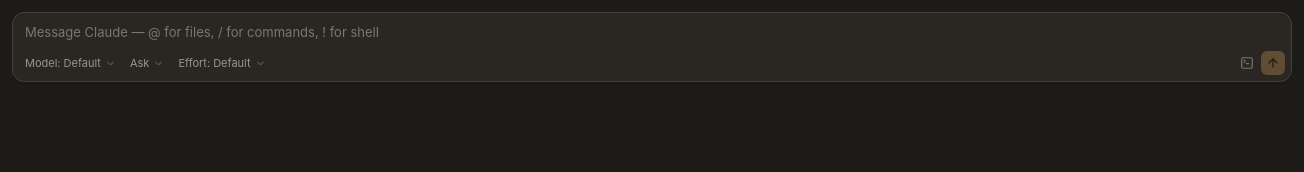
Scenario: Composer agent links › inserts at the caret, with a space so it does not touch a word
Step 1. Type "look at" into the text box → (652, 32), box [13,13,1291,51]
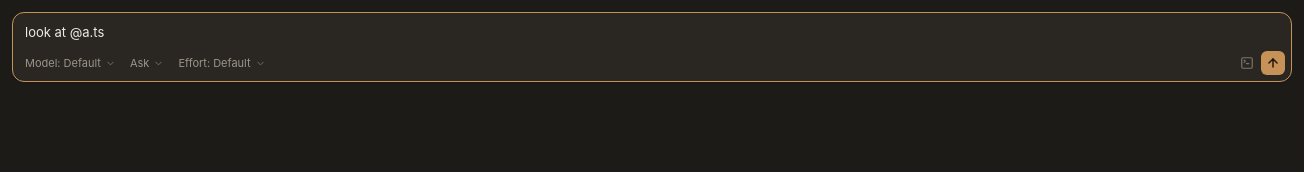
Expected: the text box holds "look at @a.ts ", [13,13,1291,51]
